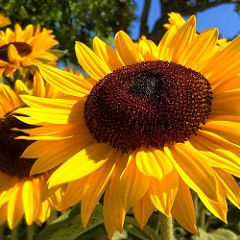flower: (6, 11, 240, 240), (0, 23, 68, 98)
